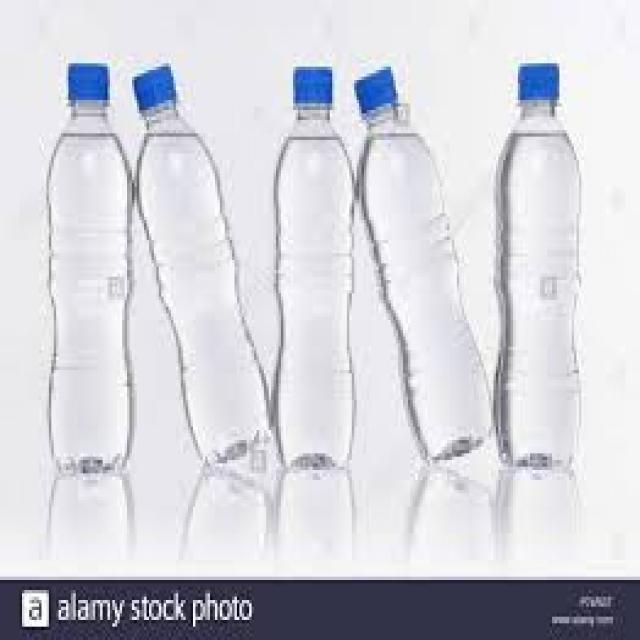Plastic: (130, 64, 271, 472), (354, 59, 492, 458), (43, 60, 138, 472), (270, 66, 358, 470), (494, 64, 580, 472)
